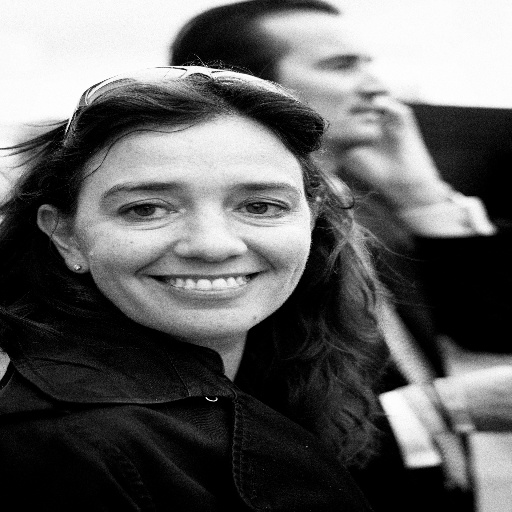hand: (333, 97, 445, 195)
